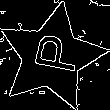P_W: (23, 34, 80, 80)
